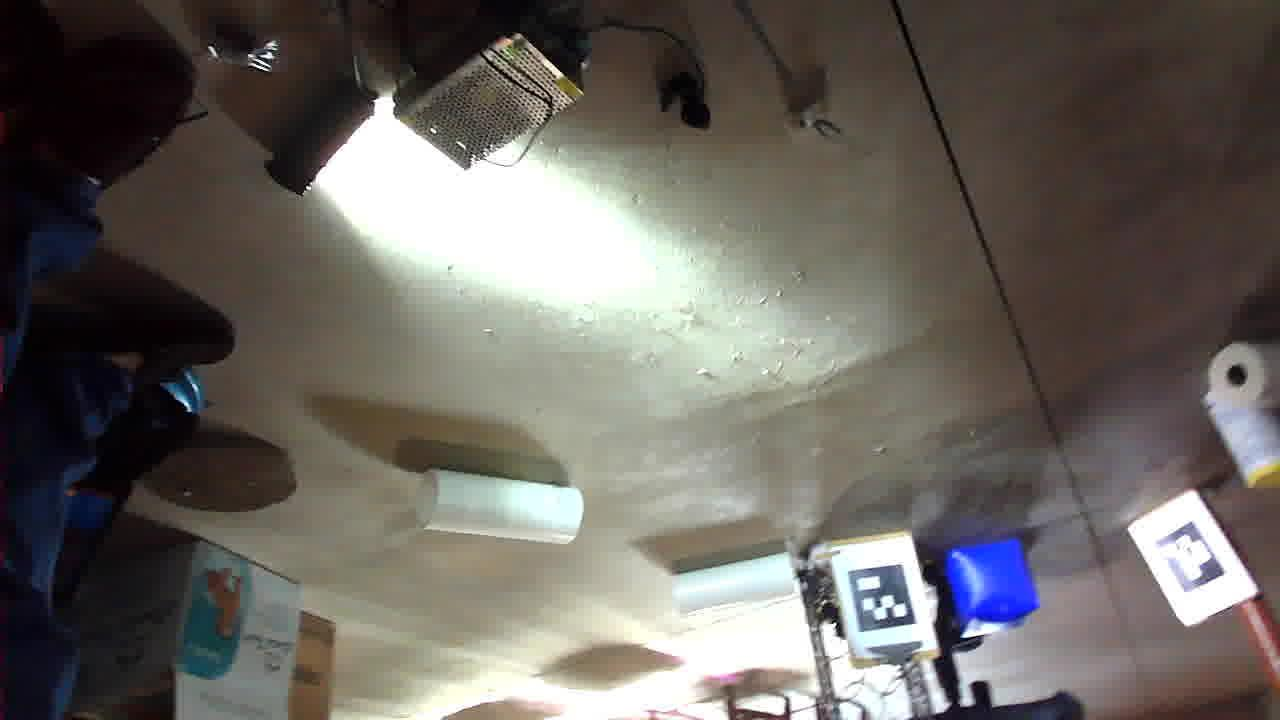coral: (700, 175, 863, 256), (483, 109, 610, 167)
